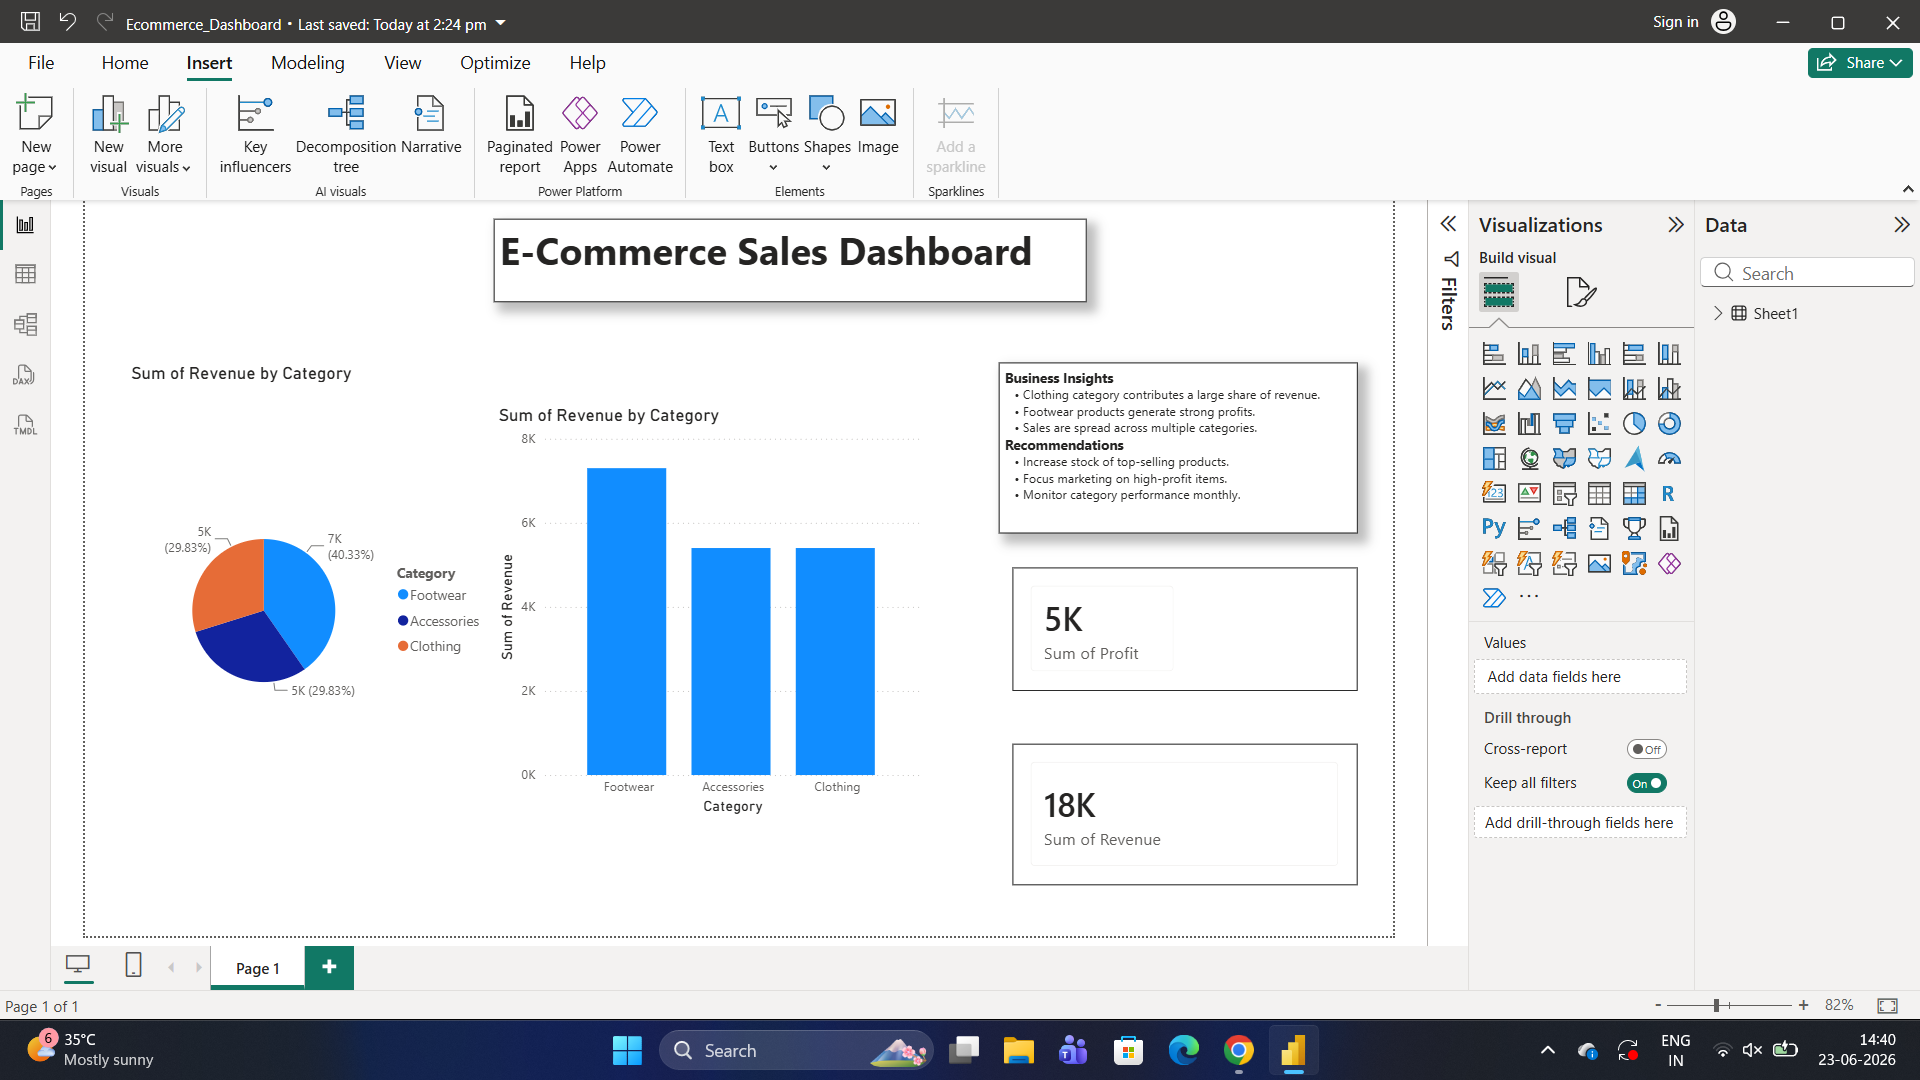

The page's visual inventory and layout, read from the dashboard file:
{"tool":"powerbi","page":{"name":"Page 1","canvas":[1280,720],"ordinal":0},"visuals":[{"type":"clusteredColumnChart","fields":{"Category":["Sheet1.Category"],"Y":["Sum(Sheet1.Revenue)"]},"box":[422.9,220,424.3,324.3],"z":0},{"type":"cardVisual","fields":{"Data":["Sum(Sheet1.Profit)"]},"box":[907.1,171.4,337.1,211.4],"z":1000},{"type":"pieChart","fields":{"Category":["Sheet1.Category"],"Y":["Sum(Sheet1.Revenue)"]},"box":[67.1,202.9,300,330],"z":2000},{"type":"textbox","box":[67.1,0,300,110],"z":3000},{"type":"textbox","box":[400,18.6,580,81.4],"z":4000},{"type":"cardVisual","fields":{"Data":["Sum(Sheet1.Revenue)"]},"box":[907.1,404.3,301.4,257.1],"z":4001}]}

Visuals, with their boxes on the page's 1280x720 design canvas (x1, y1, x2, y2). These are canvas units, not pixel positions in the 1920x1080 screenshot, which may show the page scaled, cropped or inside an application window:
clusteredColumnChart - Sheet1.Category x Sum(Sheet1.Revenue): bbox(423, 220, 847, 544)
cardVisual - Sum(Sheet1.Profit): bbox(907, 171, 1244, 383)
pieChart - Sheet1.Category x Sum(Sheet1.Revenue): bbox(67, 203, 367, 533)
textbox: bbox(67, 0, 367, 110)
textbox: bbox(400, 19, 980, 100)
cardVisual - Sum(Sheet1.Revenue): bbox(907, 404, 1208, 661)
